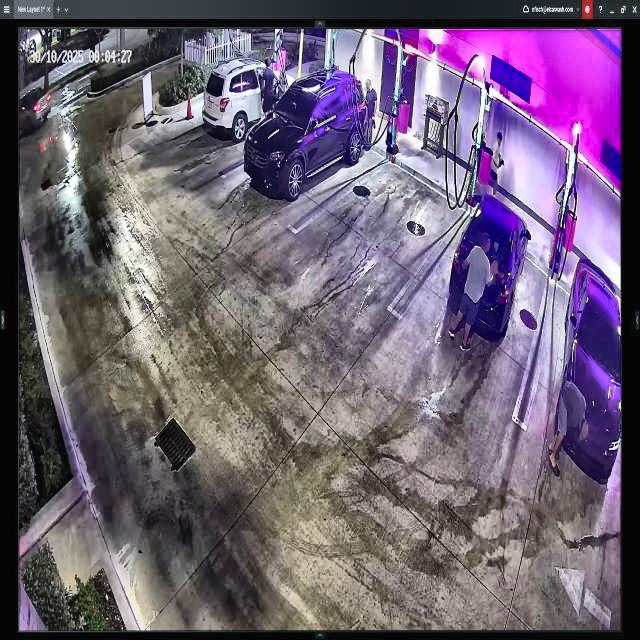Car: (245, 67, 367, 202), (451, 197, 532, 332), (203, 58, 296, 144)
